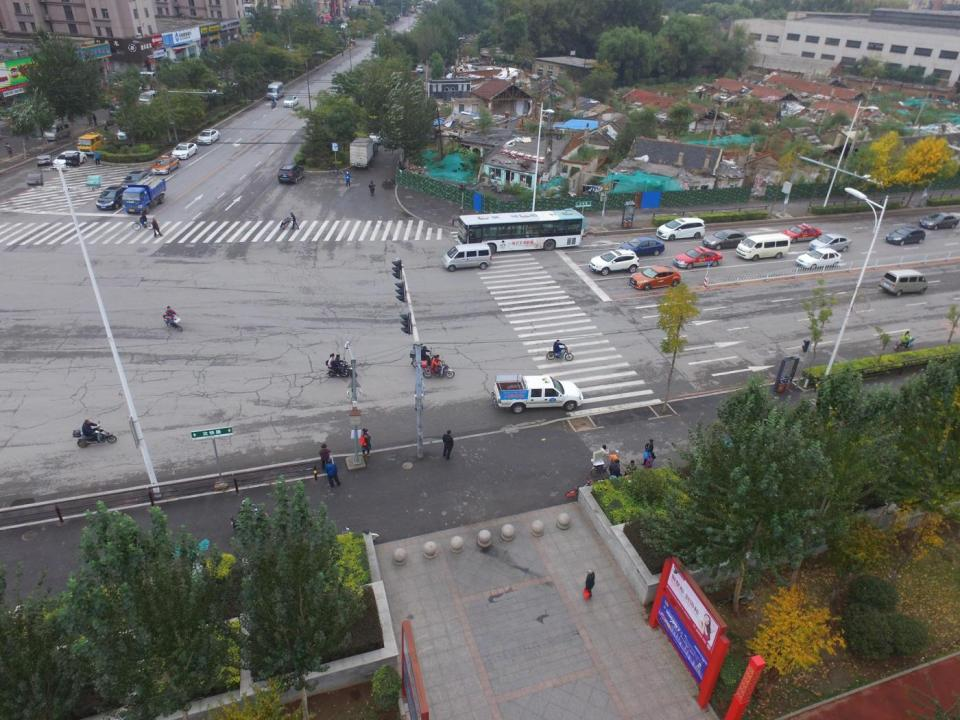bus: (452, 208, 585, 250)
car: (658, 214, 705, 242), (630, 266, 680, 290), (590, 250, 638, 275), (674, 246, 723, 268), (796, 246, 842, 269), (617, 236, 664, 254), (883, 225, 925, 245), (97, 185, 126, 212), (779, 224, 821, 242), (52, 149, 86, 171), (810, 234, 851, 251), (703, 230, 745, 246), (917, 212, 958, 228), (123, 170, 153, 190), (152, 155, 178, 176), (277, 164, 304, 184), (170, 142, 200, 159), (195, 128, 219, 144), (369, 124, 385, 148), (114, 123, 132, 140), (283, 94, 301, 108), (415, 66, 424, 73)
truck: (492, 376, 583, 412)
van: (122, 177, 167, 212), (736, 232, 790, 259), (442, 243, 492, 270), (878, 269, 927, 292), (349, 136, 374, 168), (75, 133, 110, 155), (46, 120, 70, 140), (267, 82, 285, 102), (136, 71, 157, 85), (140, 90, 155, 109)
